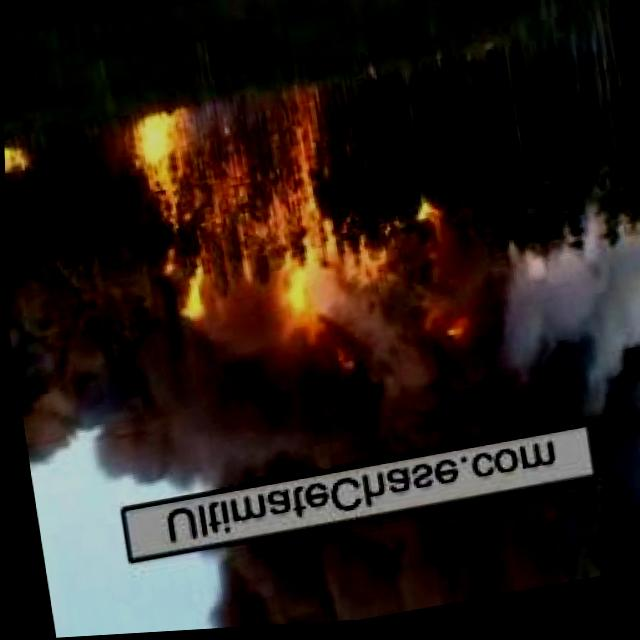Fire: (72, 246, 640, 509), (193, 471, 640, 632), (130, 85, 342, 342), (335, 194, 473, 372), (3, 133, 38, 185)
